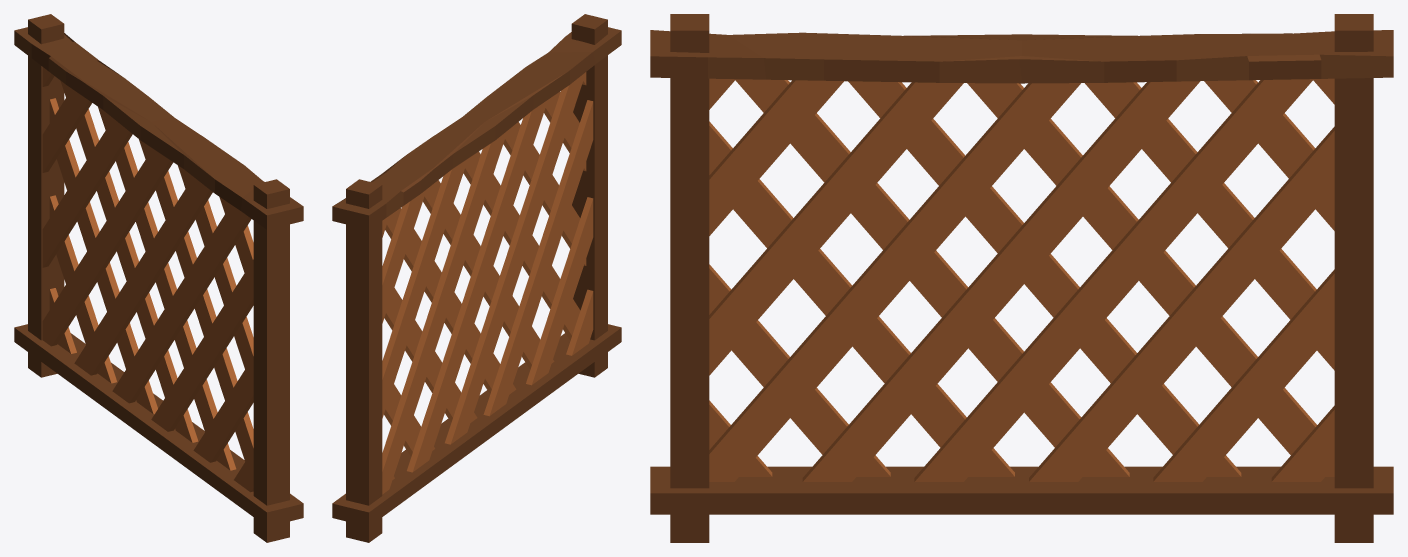
File: Fence_New_1_Brown.fbx
3 views of the same model, side by side, from view 1: azimuth 30°, elevation 25°; view 2: azimuth 150°, elevation 25°; view 3: azimuth 270°, elevation 25° (orthographic). The views are drawn at different scales.
Parts seen in each view (by area): view 1: Cube.050, Cube.045, Cube.041, Cube.043, Cube.042; view 2: Cube.050, Cube.045, Cube.042, Cube.043, Cube.041; view 3: Cube.050, Cube.045, Cube.043, Cube.041, Cube.042.
Boxes of the visible parts, x1=… form: Cube.050: x1=42, y1=67, x2=253, y2=492; Cube.045: x1=14, y1=27, x2=303, y2=229; Cube.041: x1=253, y1=179, x2=289, y2=542; Cube.043: x1=14, y1=324, x2=303, y2=526; Cube.042: x1=28, y1=14, x2=64, y2=377; Cube.050: x1=382, y1=72, x2=593, y2=494; Cube.045: x1=332, y1=27, x2=621, y2=229; Cube.042: x1=346, y1=179, x2=382, y2=542; Cube.043: x1=332, y1=324, x2=621, y2=526; Cube.041: x1=571, y1=14, x2=607, y2=377; Cube.050: x1=709, y1=78, x2=1334, y2=481; Cube.045: x1=650, y1=30, x2=1393, y2=83; Cube.043: x1=650, y1=466, x2=1393, y2=514; Cube.041: x1=670, y1=14, x2=709, y2=542; Cube.042: x1=1334, y1=14, x2=1373, y2=542.
Bounding box in the file's own units: 9.69 × 87.73 × 115.
